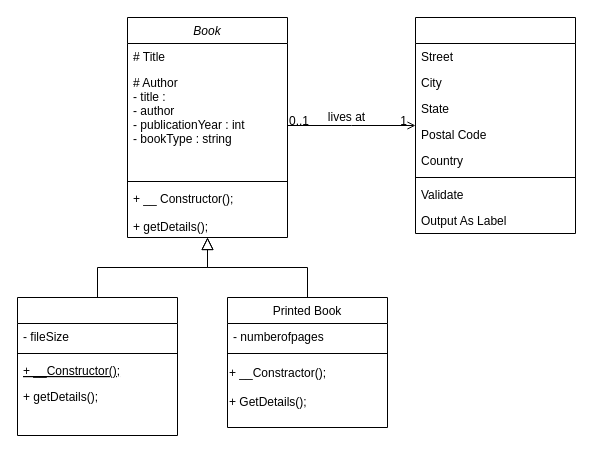
This 593x453 diagram has some shape labels left out. Here are the shapes that lost their labels. From the top down, the box of each, then its label:
(414, 16, 576, 234): Address
(16, 296, 178, 436): E-Book
